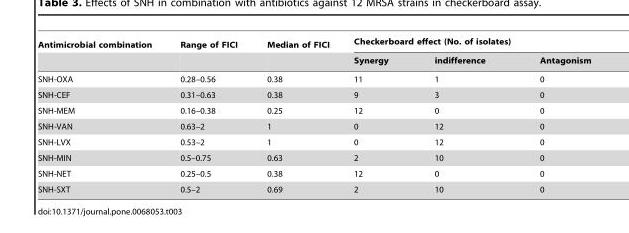table: (37, 36, 590, 193)
table column: (37, 36, 165, 193), (410, 36, 511, 193), (251, 36, 341, 193), (165, 36, 251, 193), (511, 36, 590, 193), (341, 36, 410, 193)
table column header: (37, 36, 590, 69)
table row: (37, 52, 590, 69), (37, 69, 590, 86), (37, 36, 590, 52), (37, 86, 590, 102), (37, 102, 590, 118), (37, 118, 590, 134), (37, 149, 590, 165), (37, 165, 590, 181), (37, 134, 590, 149), (37, 181, 590, 193)
table spanning cell: (37, 36, 165, 69), (341, 36, 590, 52), (251, 36, 341, 69), (165, 36, 251, 69)
